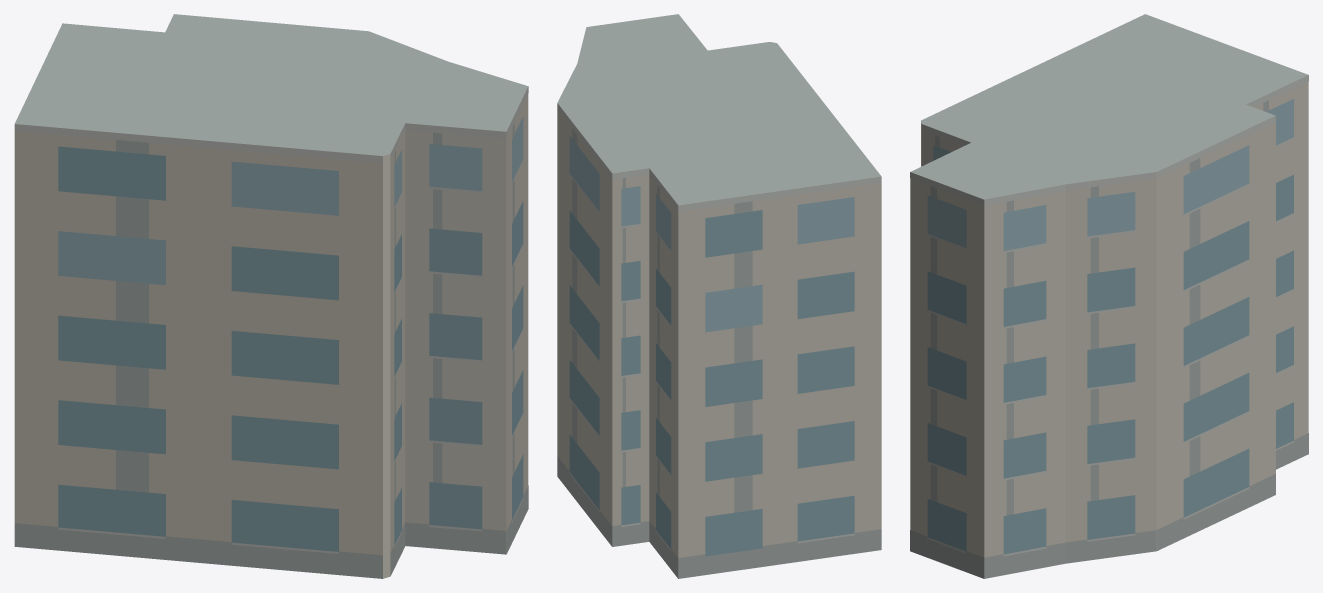
File: survey-upis-32514653.glb
The picture shows the model from 3 angles, left to right: view 1: azimuth 30°, elevation 25°; view 2: azimuth 150°, elevation 25°; view 3: azimuth 270°, elevation 25°; orthographic projection. The views are drawn at different scales.
Visible parts, largest first — view 1: survey-upis-32514653.tmp; view 2: survey-upis-32514653.tmp; view 3: survey-upis-32514653.tmp.
Boxes of the visible parts, x1=… form: survey-upis-32514653.tmp: x1=14, y1=14, x2=528, y2=578; survey-upis-32514653.tmp: x1=557, y1=14, x2=881, y2=578; survey-upis-32514653.tmp: x1=910, y1=14, x2=1308, y2=578.
Size of the model in its own units: 15.23 by 14.5 by 13.82.
